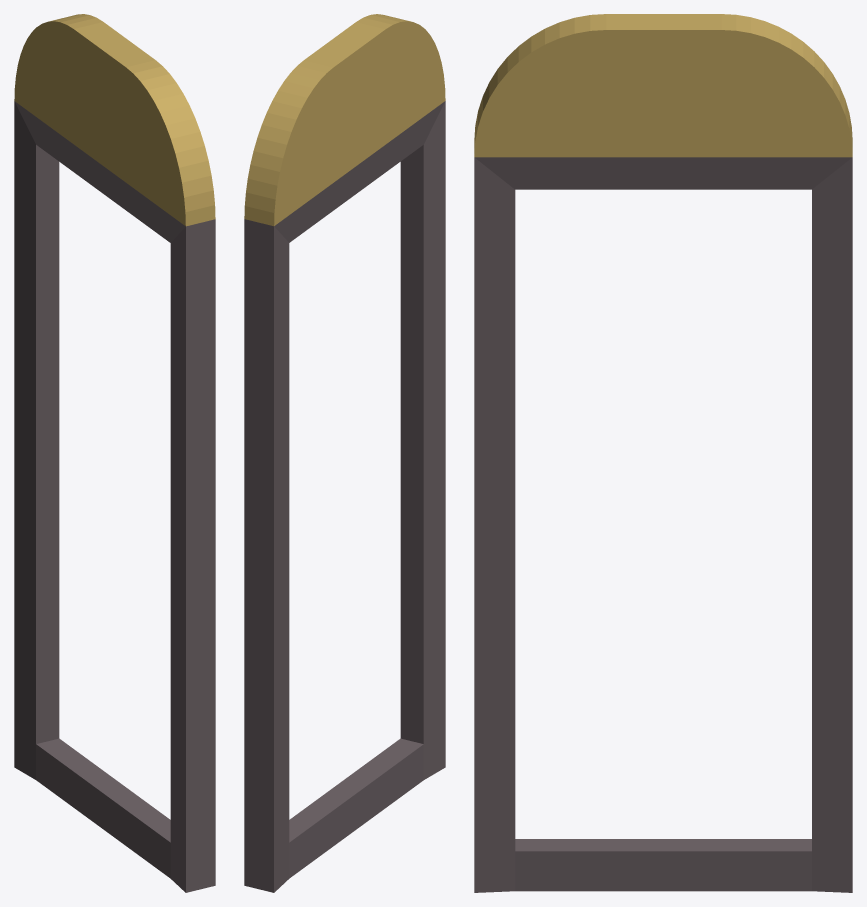
The model's file is door - Copia.fbx.
3 views of the same model, side by side, from view 1: azimuth 30°, elevation 25°; view 2: azimuth 150°, elevation 25°; view 3: azimuth 270°, elevation 25° (orthographic). The views are drawn at different scales.
Parts seen in each view (by area): view 1: Plane.003; view 2: Plane.003; view 3: Plane.003.
Part boxes in pixels (box(x1,y1,x2,y2)): Plane.003: box(14, 14, 215, 892); Plane.003: box(244, 14, 445, 892); Plane.003: box(474, 14, 852, 892).
Size of the model in its own units: 10 by 252 by 100.
